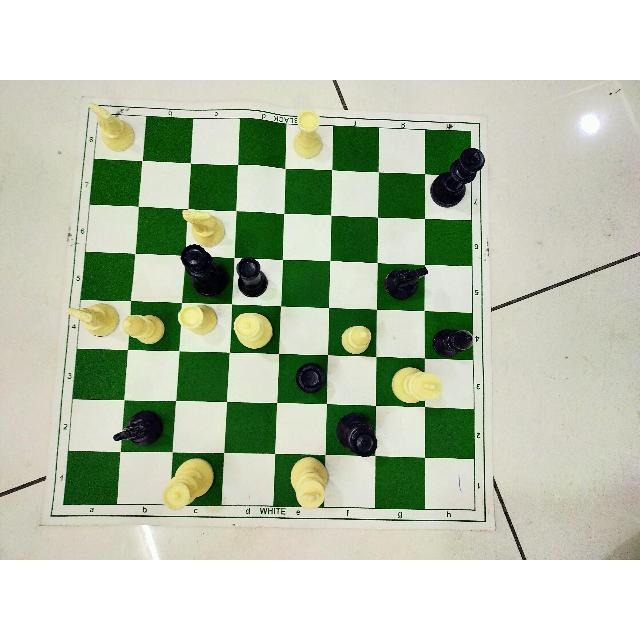black-bishop: (432, 316, 474, 363)
black-king: (429, 139, 485, 218)
black-knight: (113, 396, 169, 453), (384, 262, 434, 304)
black-queen: (177, 241, 231, 302), (333, 410, 381, 459)
black-rook: (233, 251, 271, 298), (292, 356, 326, 393)
white-bishop: (121, 305, 165, 343), (339, 316, 373, 356)
white-king: (389, 362, 445, 410), (287, 451, 329, 510)
white-knight: (86, 98, 136, 153), (178, 203, 234, 249), (66, 297, 120, 344)
white-queen: (162, 459, 218, 509), (233, 310, 275, 348)
white-rook: (284, 107, 325, 160), (175, 302, 221, 337)
